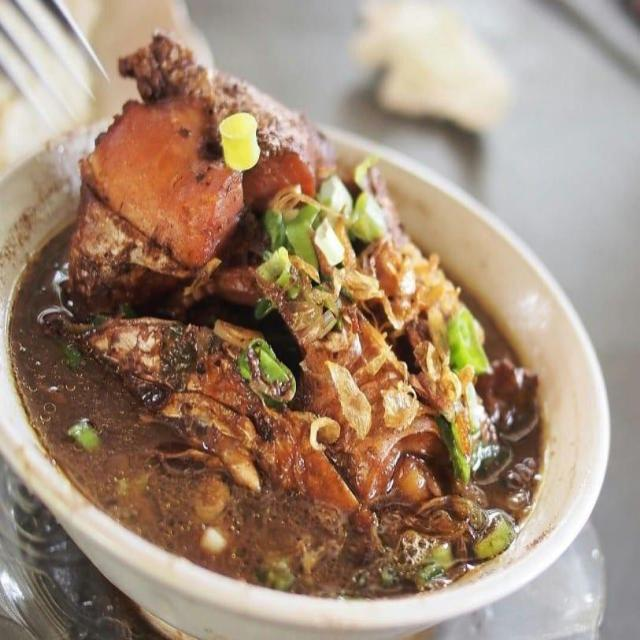Rawon: (35, 75, 513, 604)
